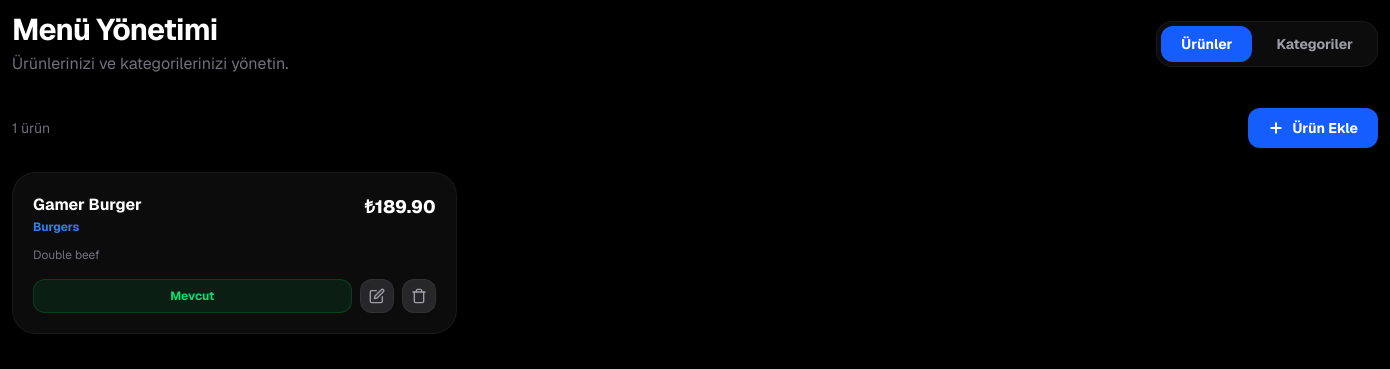
Admin Menu Page › Categories Tab › should switch to categories tab
The width and height of the screenshot is (1390, 369).
Click the button "Kategoriler".
click(1315, 44)  # box [1256, 26, 1373, 62]
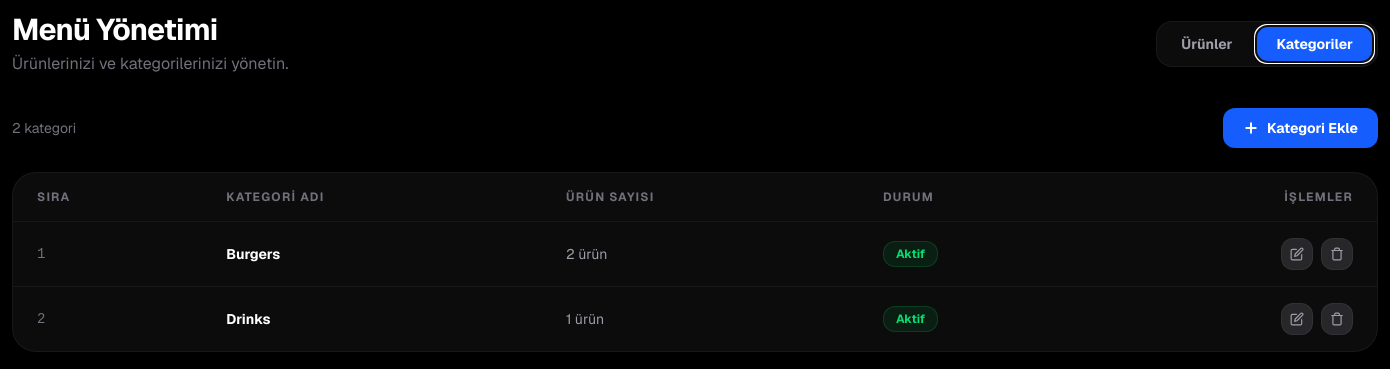
Check: the text "Burgers" is shown, box [202, 222, 542, 286]
Check: the text "Drinks" is shown, box [202, 286, 542, 351]
